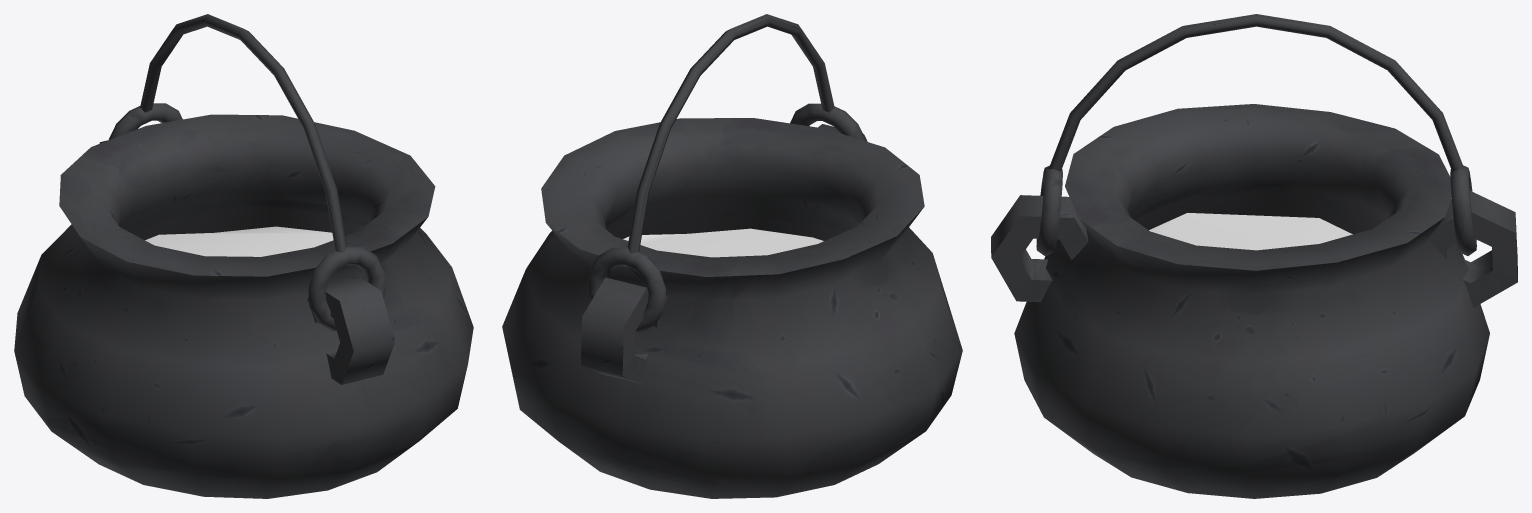
Rendered from SM_PROP_cookingpot_small.fbx.
3 renders of one model, left to right at view 1: azimuth 30°, elevation 25°; view 2: azimuth 150°, elevation 25°; view 3: azimuth 270°, elevation 25°, orthographic. The views are drawn at different scales.
Parts seen in each view (by area): view 1: SM_PROP_cookingpot_small, SM_PROP_cookingpot_small_handle; view 2: SM_PROP_cookingpot_small, SM_PROP_cookingpot_small_handle; view 3: SM_PROP_cookingpot_small, SM_PROP_cookingpot_small_handle.
Part boxes in pixels (<box>): SM_PROP_cookingpot_small: <box>14,114,473,498</box>; SM_PROP_cookingpot_small_handle: <box>108,14,385,331</box>; SM_PROP_cookingpot_small: <box>502,118,962,498</box>; SM_PROP_cookingpot_small_handle: <box>588,14,865,332</box>; SM_PROP_cookingpot_small: <box>991,104,1517,498</box>; SM_PROP_cookingpot_small_handle: <box>1036,14,1476,256</box>.
Size of the model in its own units: 57.77 by 59.84 by 62.94.
